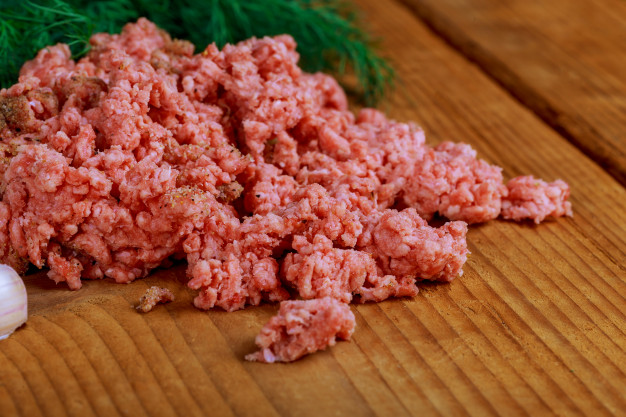ground_beef: (1, 40, 573, 296), (228, 264, 397, 368)
